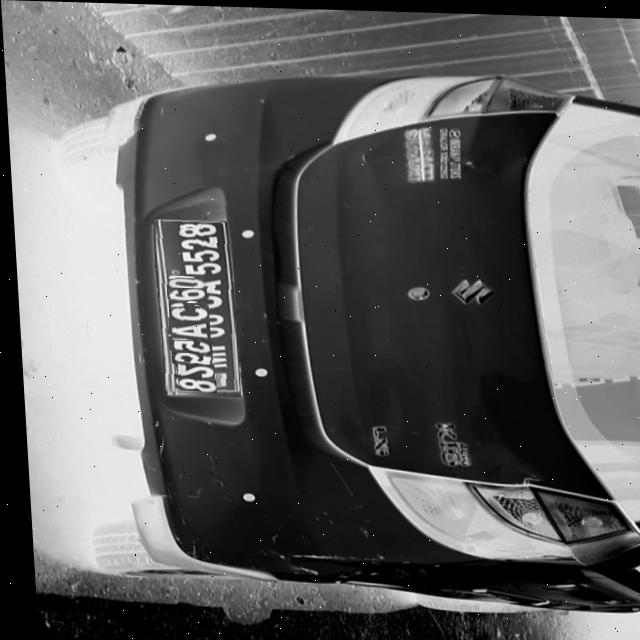0: (163, 275, 200, 288)
2: (171, 363, 209, 380)
5: (166, 338, 207, 353), (168, 352, 208, 366)
6: (163, 287, 203, 302)
8: (172, 378, 211, 393)
A: (165, 319, 206, 337)
C: (165, 304, 205, 320)
IND: (160, 225, 200, 244)
Indian_registered: (152, 218, 232, 392)
M: (160, 242, 201, 264)
P: (160, 261, 200, 275)
